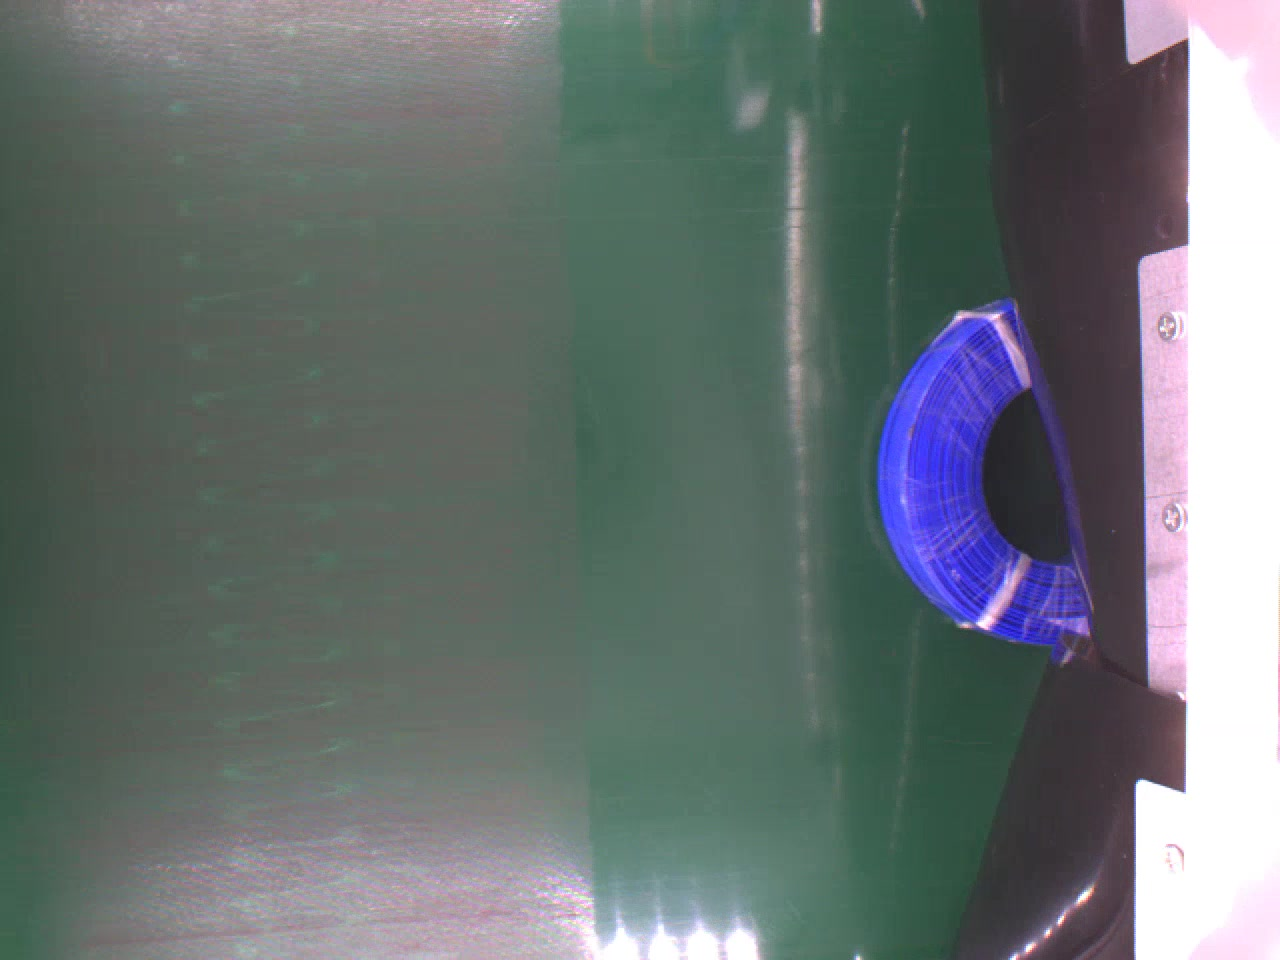blue: (873, 302, 1087, 648)
